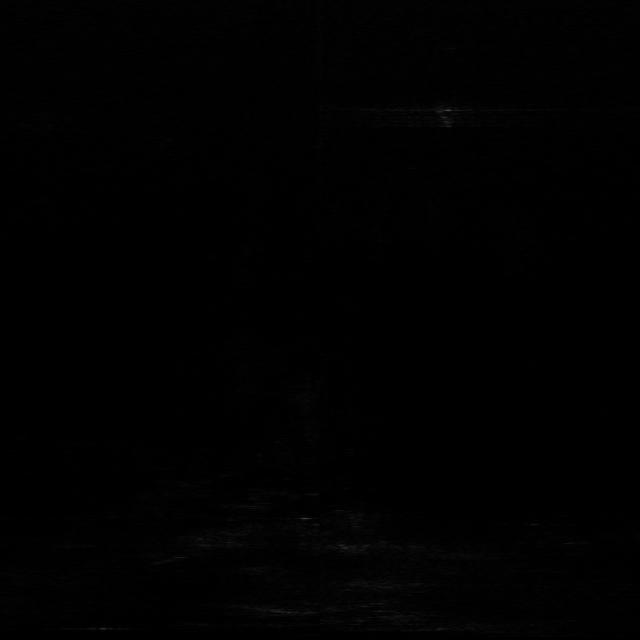rov: (430, 102, 464, 130)
